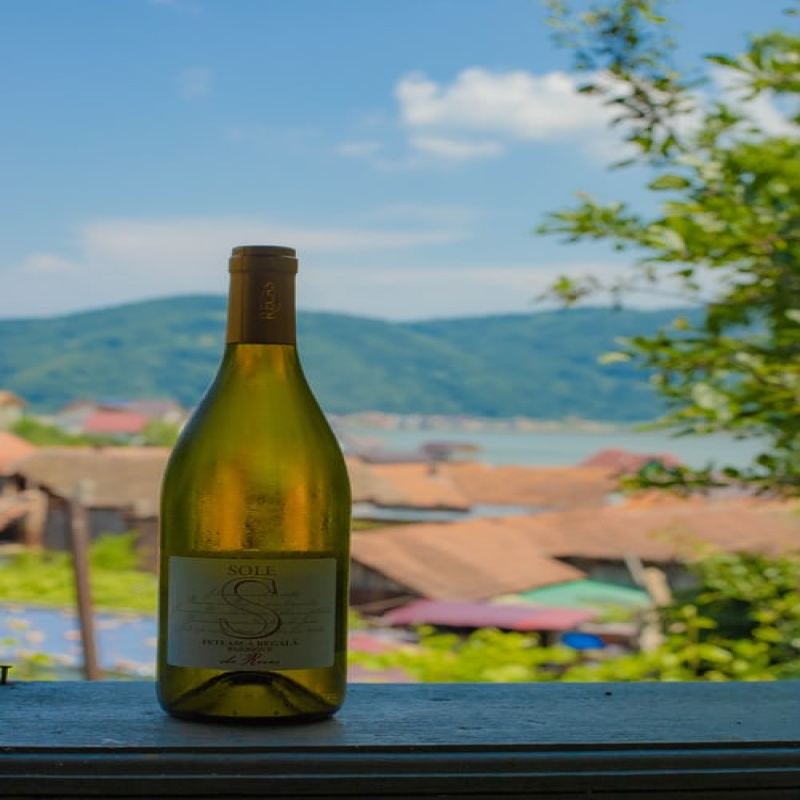wine: (161, 247, 348, 719)
